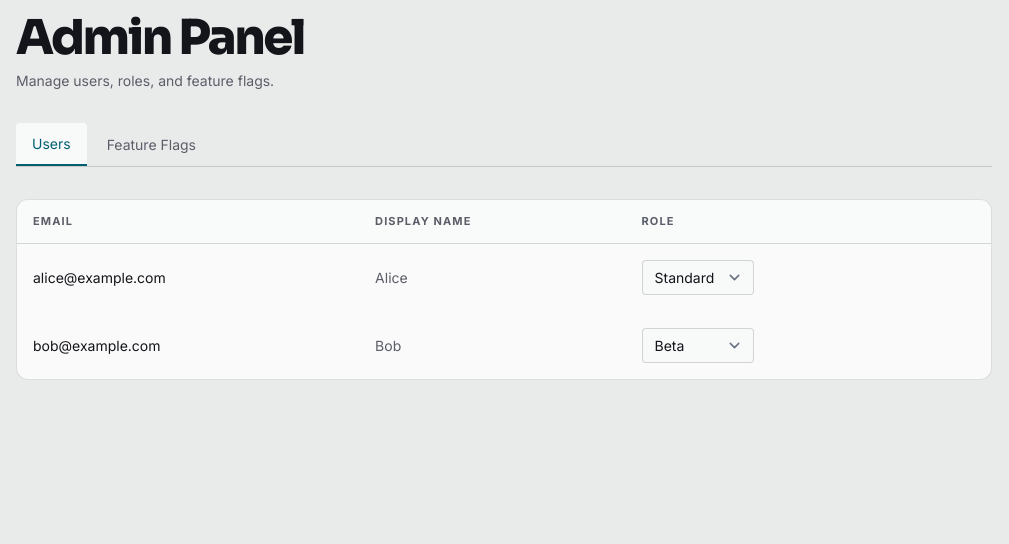
Test: AdminPage › switches to Feature Flags tab and shows existing flag
Expected: the text "alice@example.com" is shown, [17,244,359,312]
Step 1. Click the button "Feature Flags" → (151, 144), box [91,123,212,166]
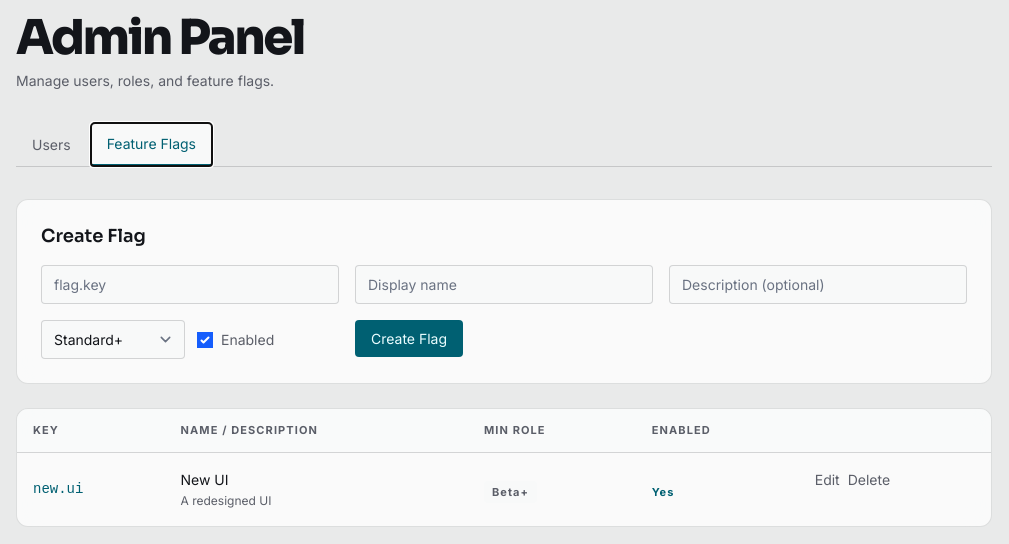
Expected: the text "new.ui" is shown, [17,453,164,526]
Expected: the text "New UI" is shown, [180,471,228,488]
